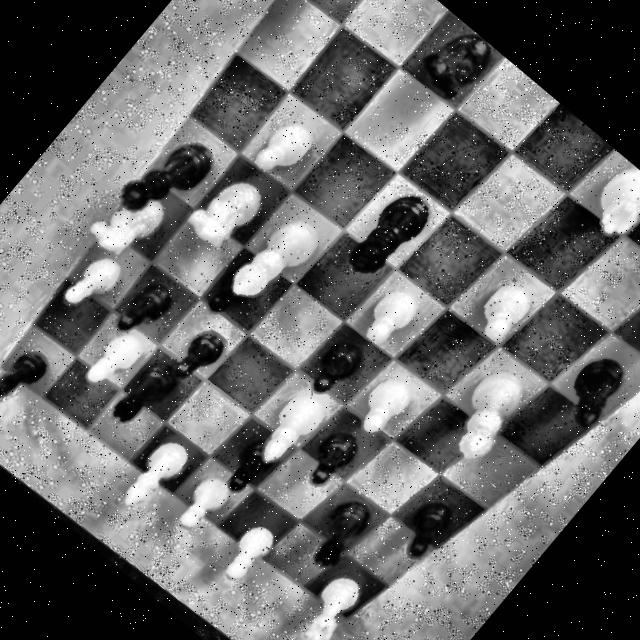black-bishop: (522, 329, 640, 451), (263, 0, 379, 28)
black-king: (320, 171, 440, 296)
black-knight: (387, 6, 499, 120), (600, 276, 640, 394)
black-pawn: (276, 415, 368, 511), (145, 309, 237, 405), (372, 486, 462, 578), (94, 261, 182, 353), (283, 324, 371, 416), (201, 421, 289, 512), (184, 249, 266, 334), (0, 330, 61, 423)
black-queen: (96, 107, 232, 249)
black-rook: (278, 478, 387, 592), (88, 342, 190, 449)
white-bishop: (225, 371, 336, 486), (98, 420, 204, 530)
white-king: (204, 194, 328, 324)
white-knight: (164, 150, 281, 271), (64, 164, 178, 280)
white-pawn: (222, 94, 326, 202), (335, 268, 430, 366), (42, 234, 134, 332), (197, 504, 289, 601), (447, 262, 538, 356), (65, 313, 155, 406), (154, 456, 242, 550), (332, 358, 420, 449)
white-queen: (410, 346, 549, 489)
white-rook: (548, 143, 640, 265), (272, 554, 381, 640)
